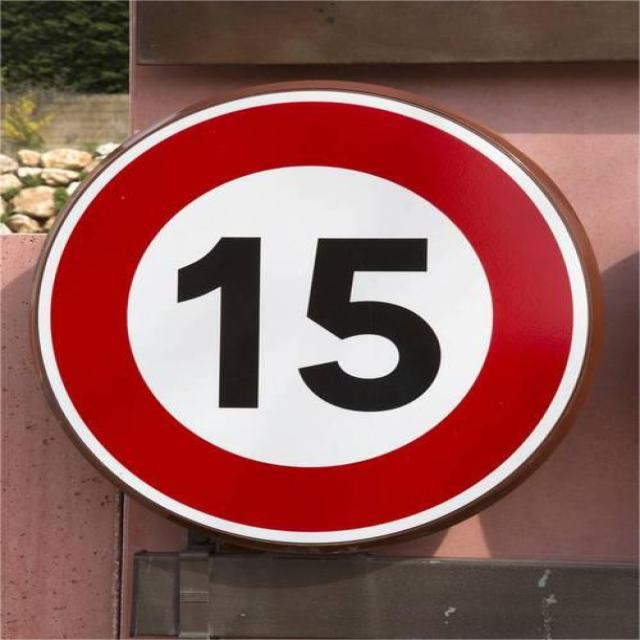speed limit 20: (31, 89, 596, 551)
